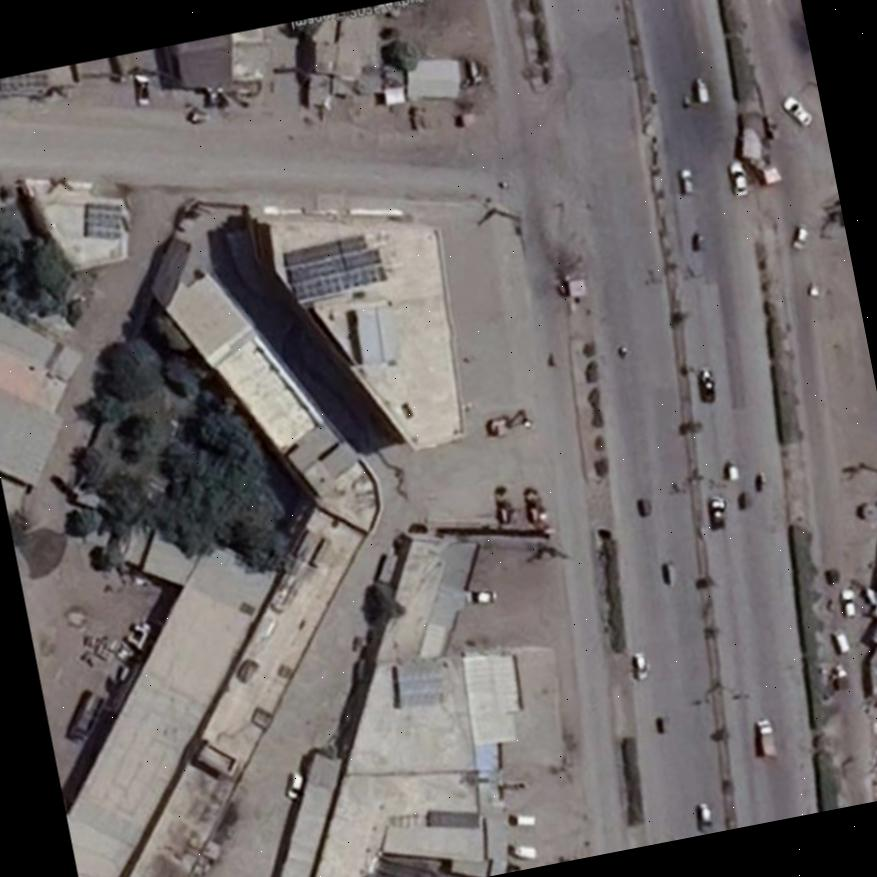Solarpanel: (284, 234, 384, 301), (86, 205, 122, 238)
